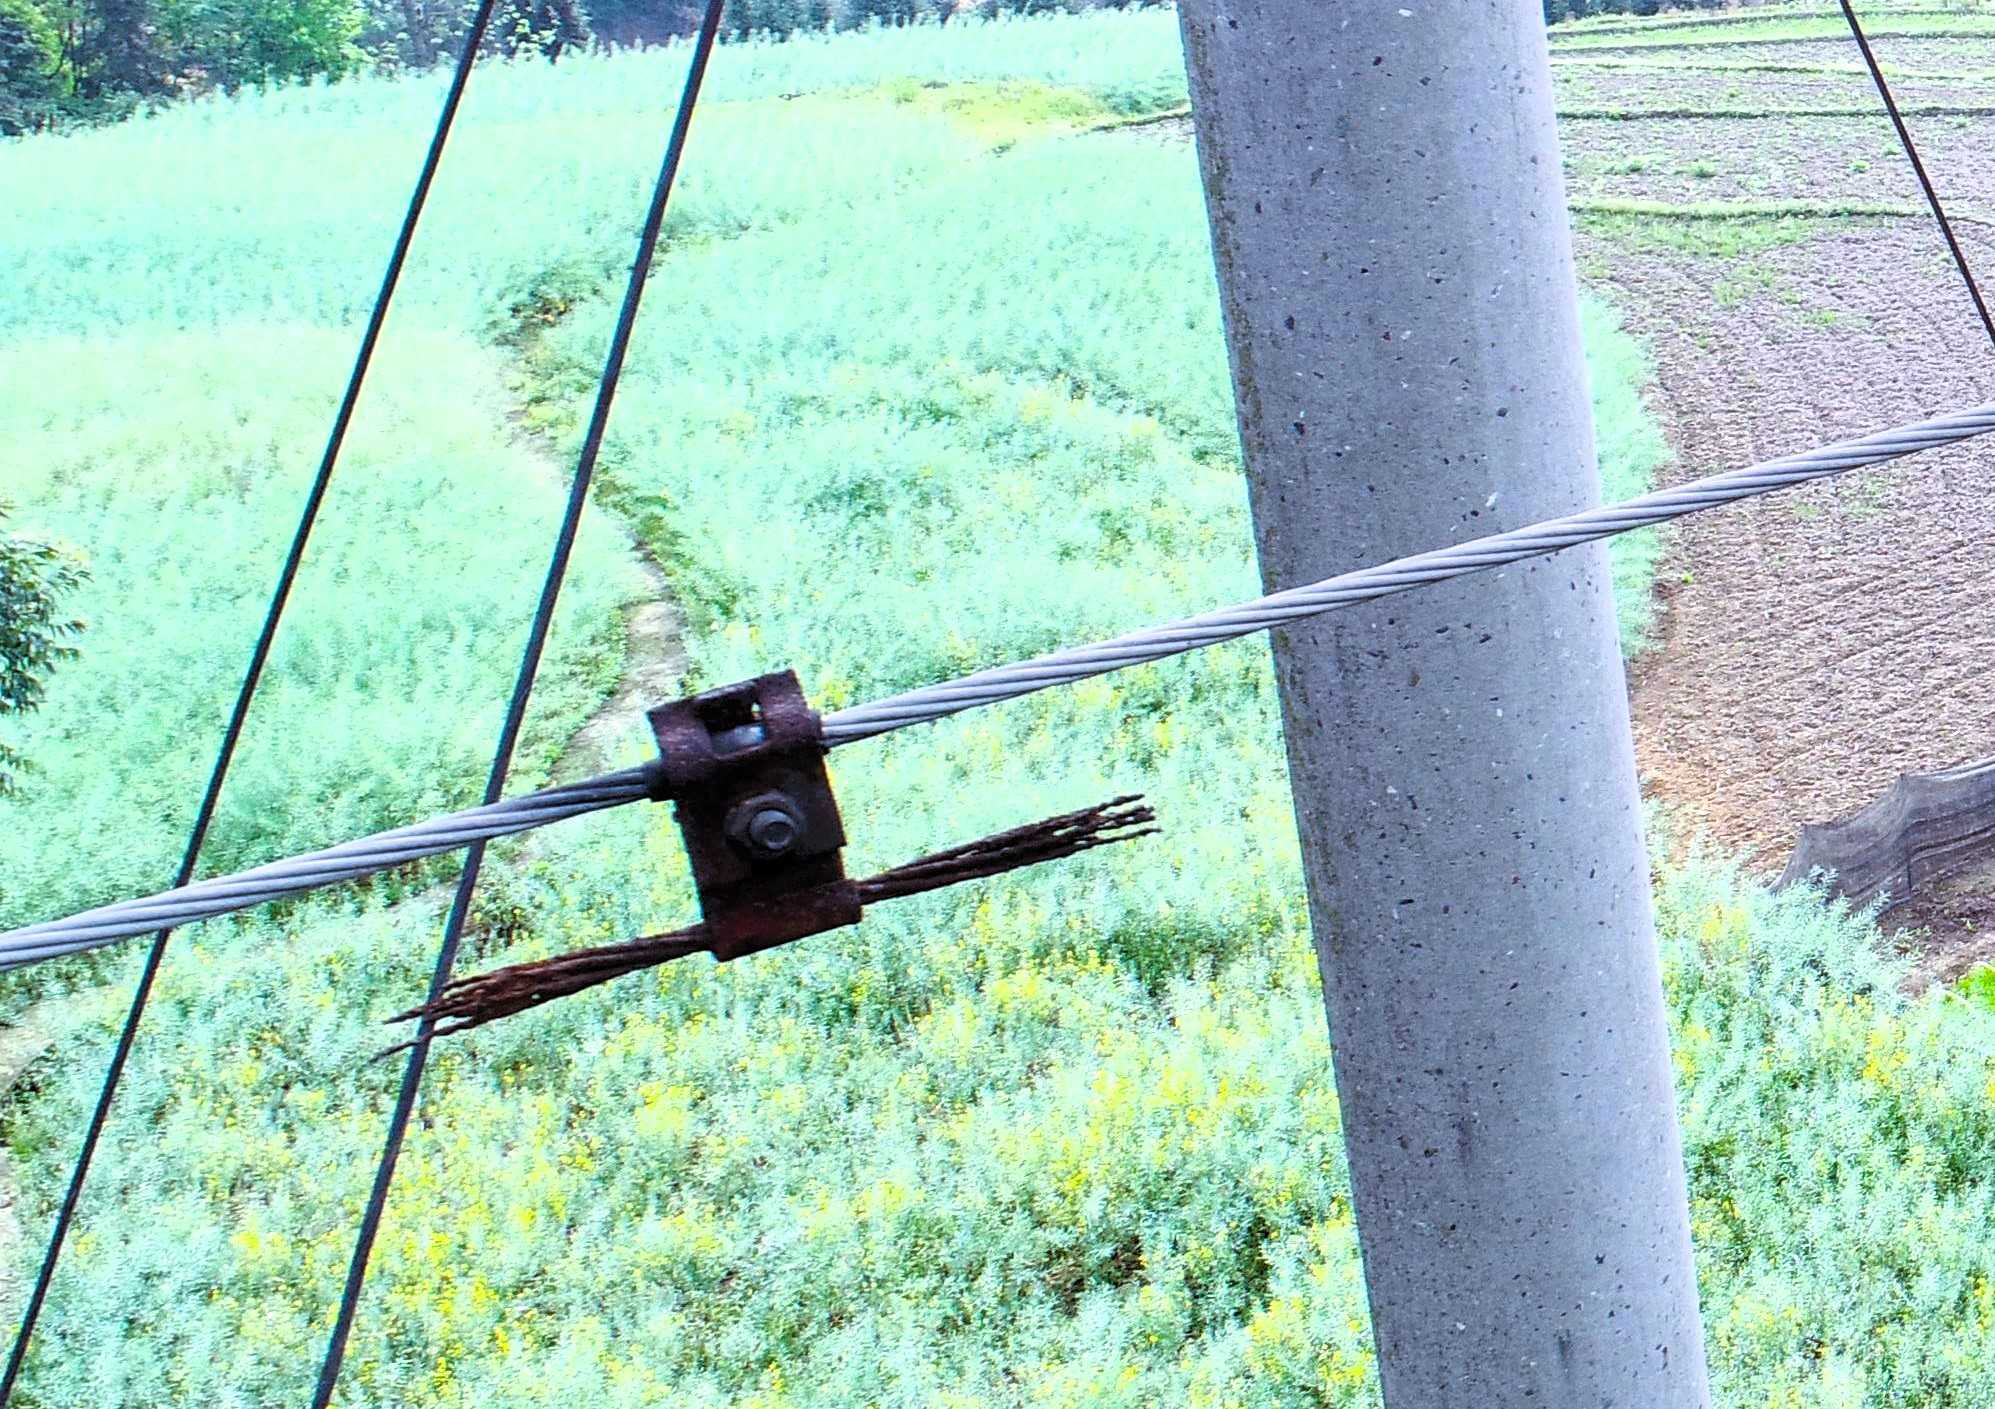Damage of shockproof hammer: (355, 608, 1184, 1078)
